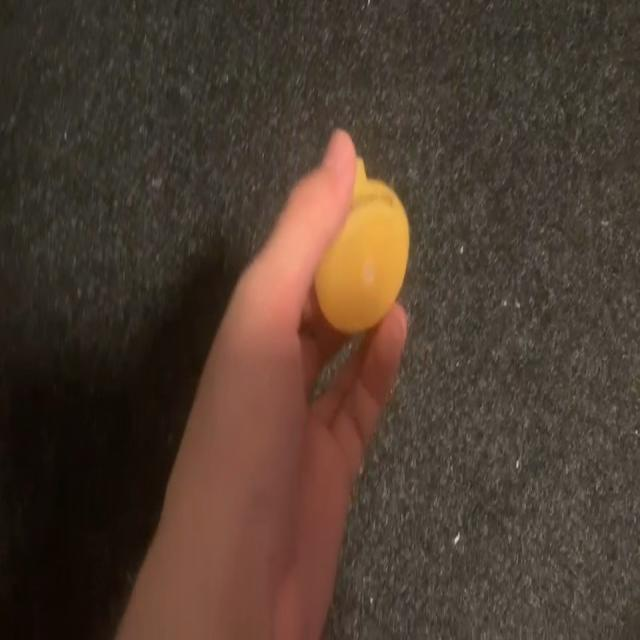rubber-duck: (314, 157, 407, 331)
